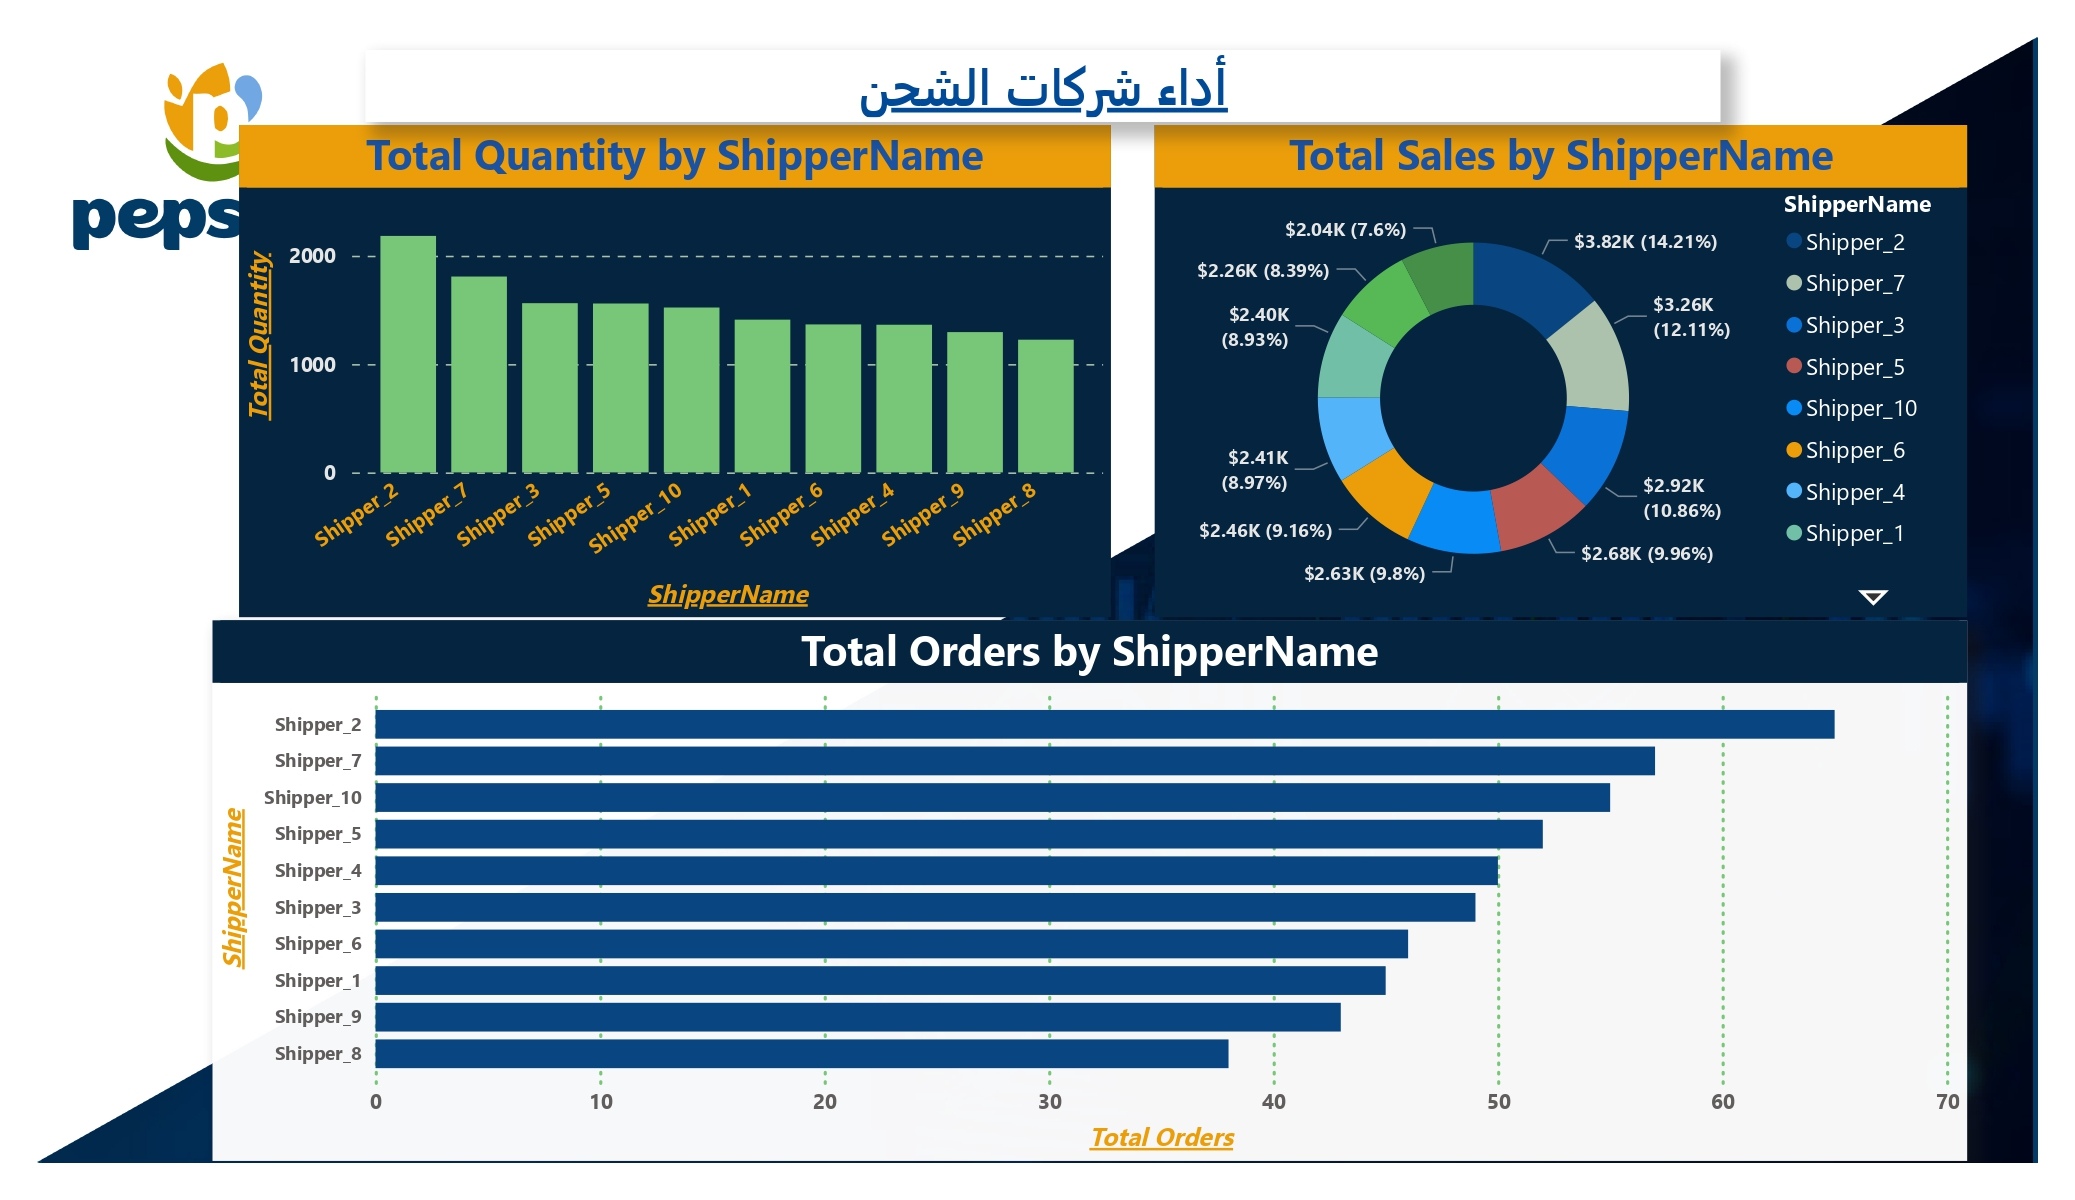

The page's visual inventory and layout, read from the dashboard file:
{"tool":"powerbi","page":{"name":"Shipper","canvas":[1280,720],"ordinal":4},"visuals":[{"type":"donutChart","fields":{"Category":["Shippers.ShipperName"],"Y":["InvoiceDetails.Total Sales"]},"box":[715.4,55.7,519.2,315.4],"z":0},{"type":"clusteredBarChart","fields":{"Category":["Shippers.ShipperName"],"Y":["InvoiceDetails.Total Orders"]},"box":[111.5,373.1,1123.1,346.2],"z":1000},{"type":"clusteredColumnChart","fields":{"Category":["Shippers.ShipperName"],"Y":["InvoiceDetails.Total Quantity"]},"box":[128.8,55.7,557.7,315.4],"z":2000},{"type":"textbox","title":"أداء شركات الشحن ","box":[209.6,7.7,867.3,46.2],"z":3000}]}

Visuals, with their boxes on the page's 1280x720 design canvas (x1, y1, x2, y2). These are canvas units, not pixel positions in the 2075x1200 screenshot, which may show the page scaled, cropped or inside an application window:
donutChart - Shippers.ShipperName x InvoiceDetails.Total Sales: 715, 56, 1235, 371
clusteredBarChart - Shippers.ShipperName x InvoiceDetails.Total Orders: 112, 373, 1235, 719
clusteredColumnChart - Shippers.ShipperName x InvoiceDetails.Total Quantity: 129, 56, 686, 371
"أداء شركات الشحن " textbox: 210, 8, 1077, 54
